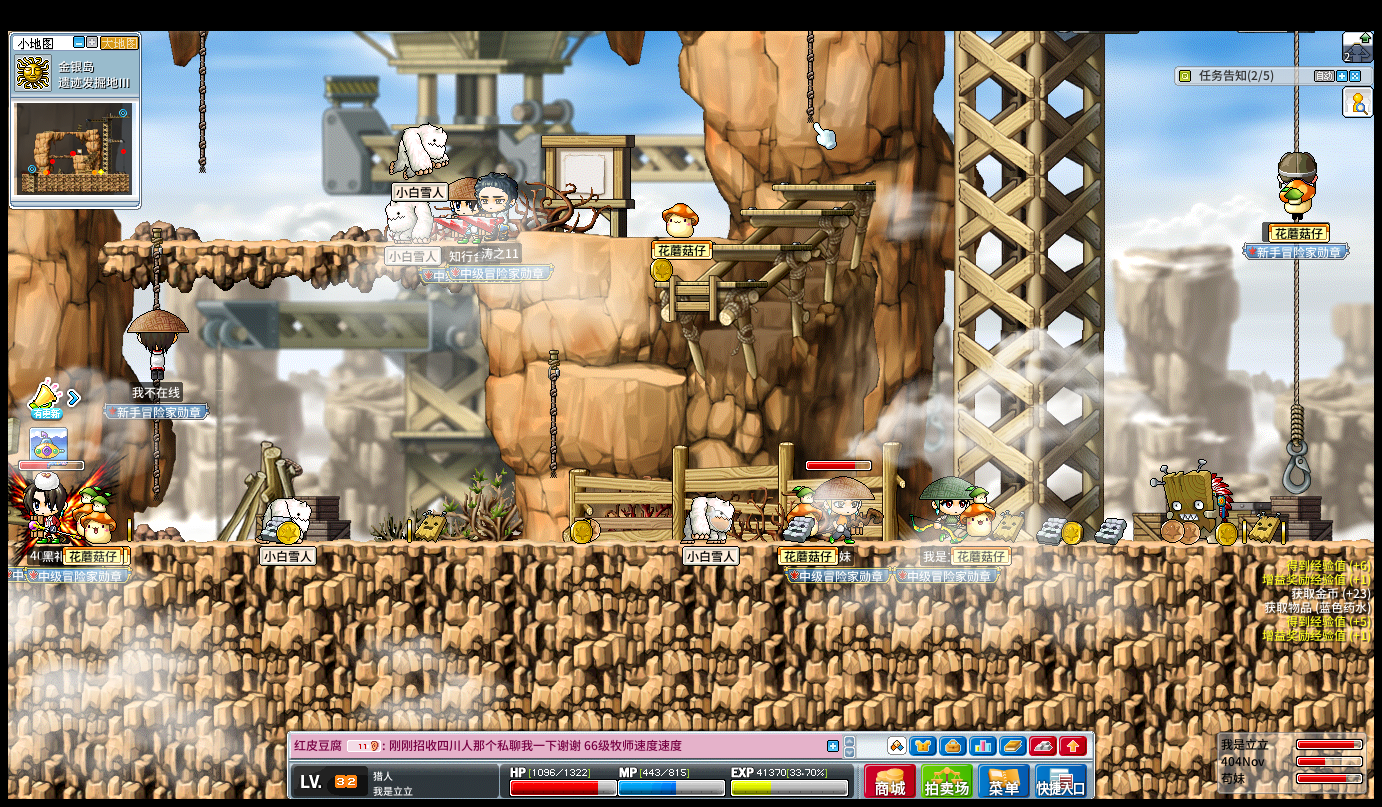floor: (102, 239, 476, 249), (579, 364, 687, 385), (601, 233, 738, 240), (650, 279, 765, 287), (705, 243, 810, 251), (736, 207, 849, 214), (771, 184, 874, 191)
monster: (1157, 462, 1232, 542)
rope: (546, 346, 561, 479), (1291, 257, 1302, 407), (198, 30, 207, 173), (150, 227, 161, 308), (1292, 29, 1299, 148), (805, 29, 813, 123), (152, 419, 161, 502), (1289, 399, 1304, 445)
